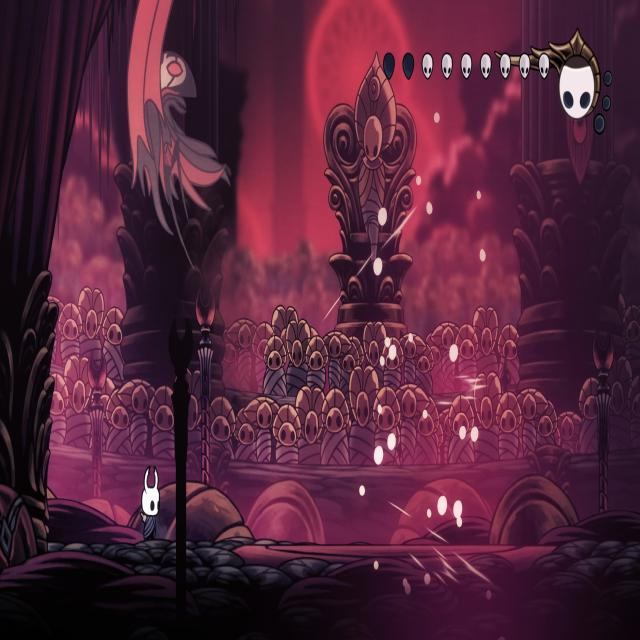Dash Uppercut: (120, 0, 235, 271)
Player: (137, 461, 161, 544)
